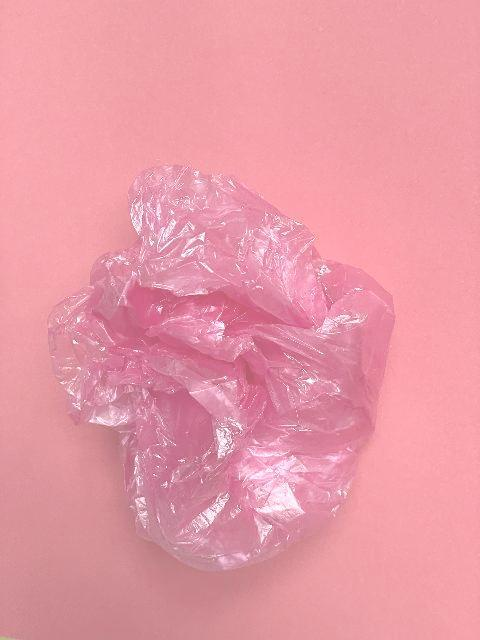plasticbag: (46, 160, 396, 574)
